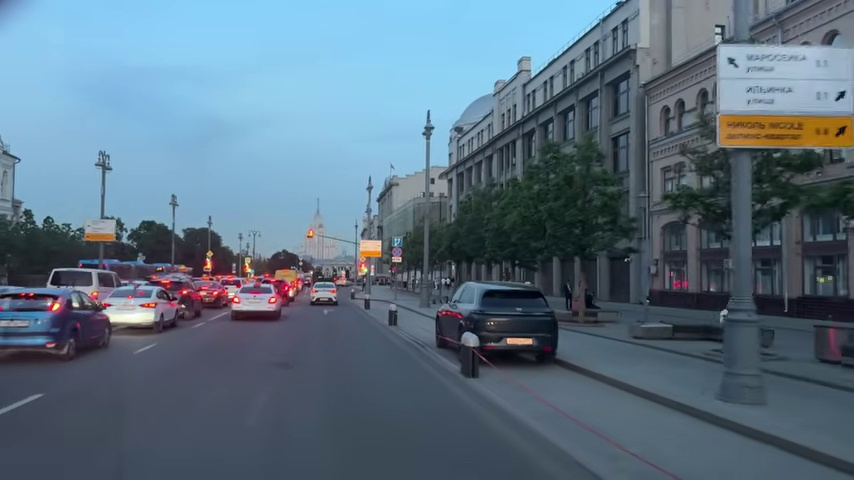apagada: (93, 151, 113, 175), (419, 121, 436, 141)
